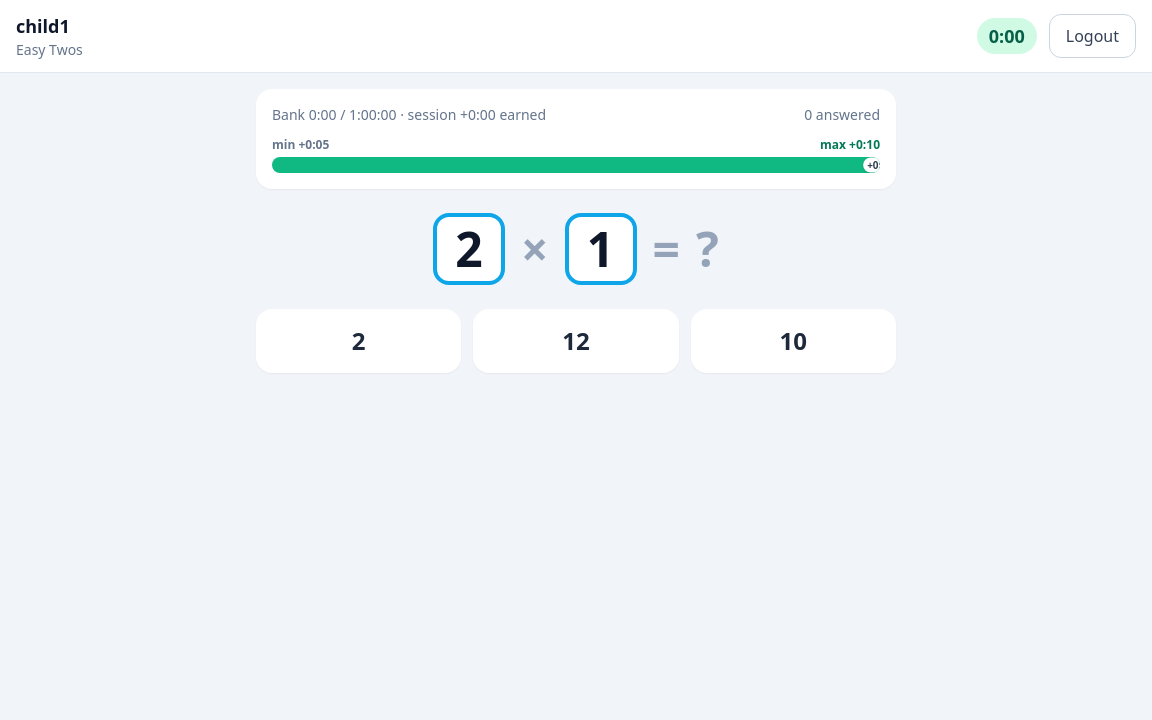
Scenario: T27 — single submission and honest feedback › case 5: an API failure shows the error, updates nothing, and retry works
The image size is (1152, 720).
Expected: the element with test id "question" is shown, [433,213,719,285]
Expected: the element with test id "answers" is shown, [256,309,896,373]
Click the button "2". click: coordinates (359, 341)
box: [256,309,461,373]
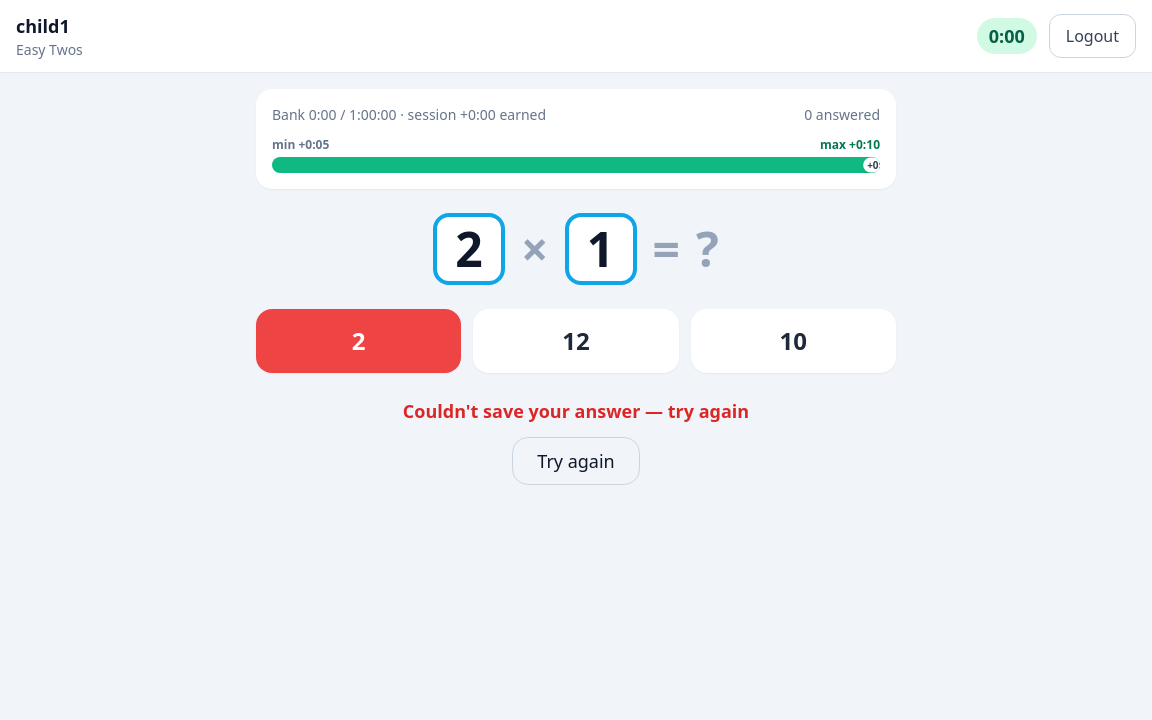
Expected: the text with test id "bank" reads "Bank 0:00", [272,105,336,124]
Result: the text with test id "save-error" shows "Couldn't save your answer" at [403,399,749,423]
Click the button with test id "try-again". click: coordinates (576, 461)
box: [512,437,640,485]
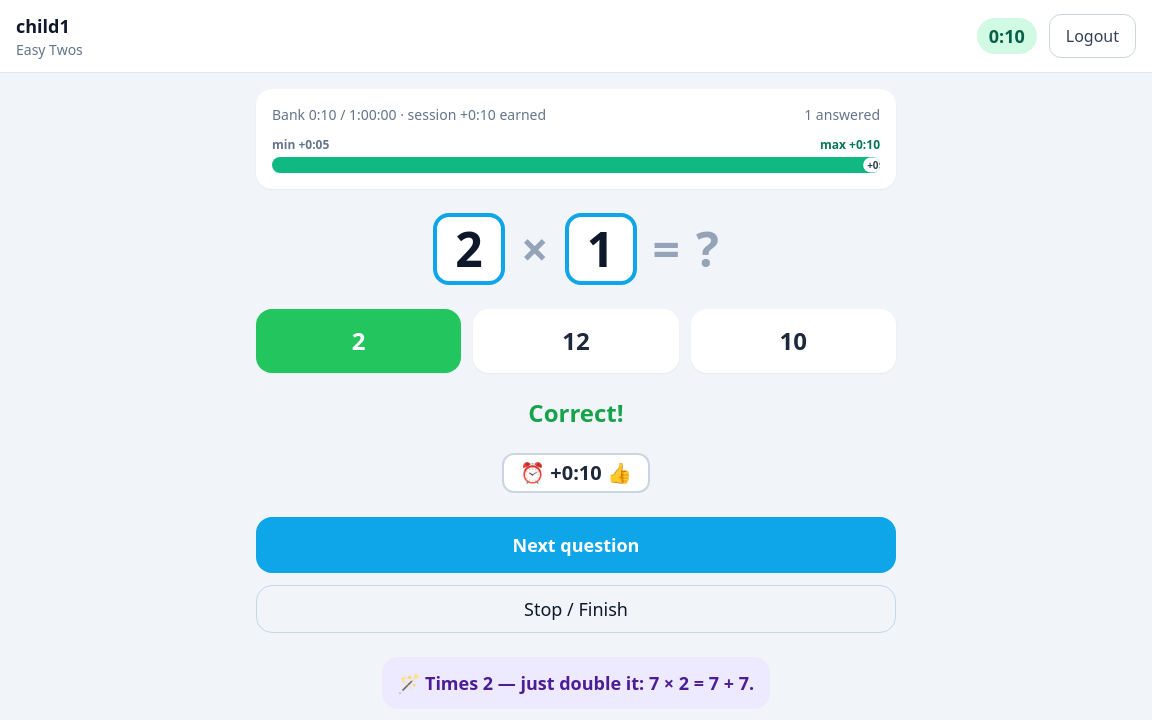
Result: the text with test id "feedback" reads "Correct!" at [528,396,624,429]
Result: the text with test id "tries" reads "1 answered" at [804,105,880,125]
